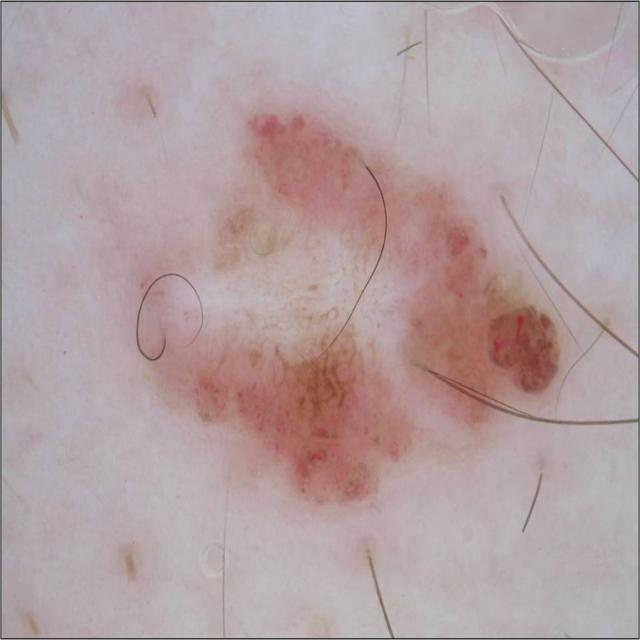Benign: (113, 97, 564, 512)
